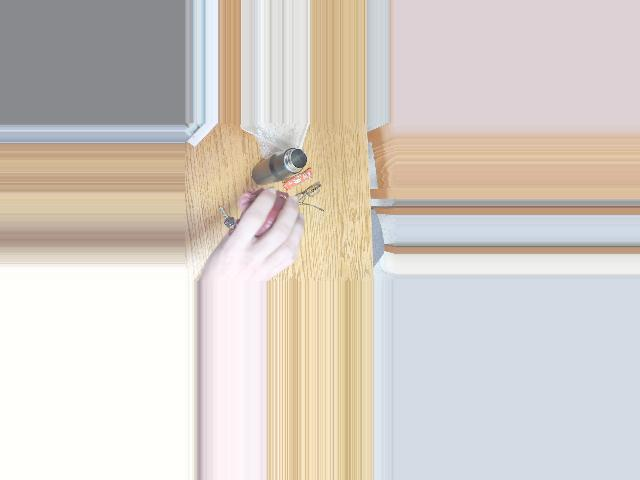onion: (233, 199, 291, 248)
